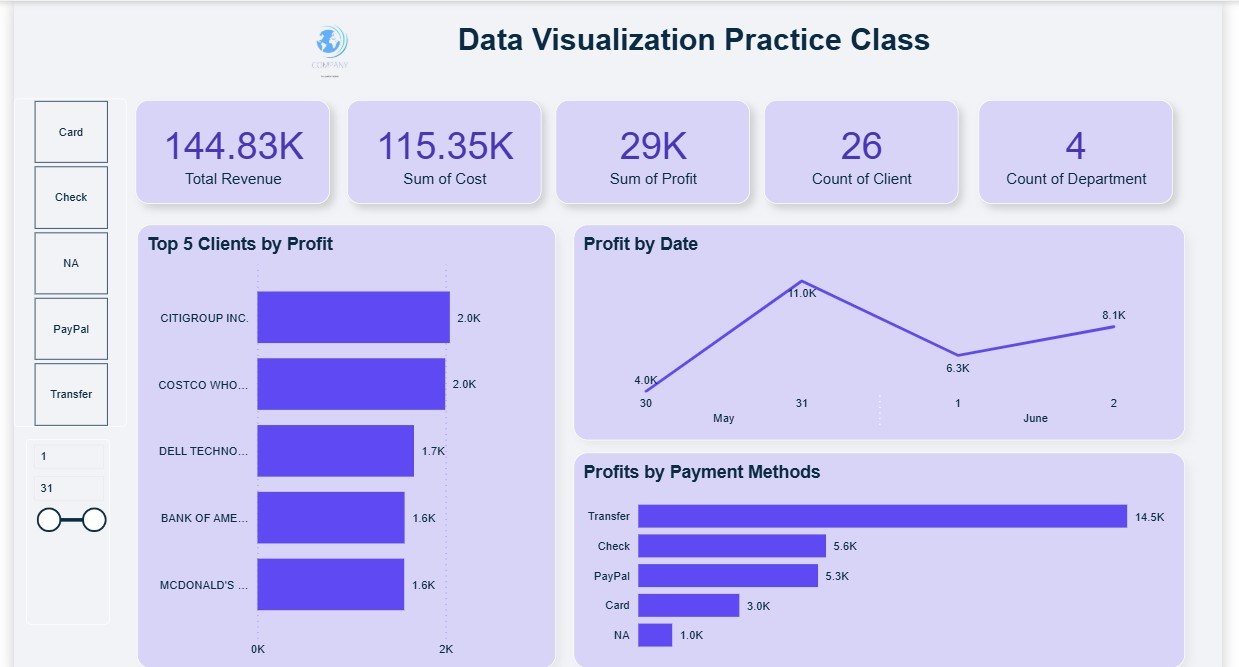

Layout of this report page (visuals, bound fields, positions):
{"tool":"powerbi","page":{"name":"Page 1","canvas":[1280,720],"ordinal":0},"visuals":[{"type":"textbox","box":[419.5,22.7,602.8,56.7],"z":0},{"type":"image","box":[240,5.7,189,86.9],"z":1000},{"type":"card","title":"Total Revenue","fields":{"Values":["Table1.Total Revenue"]},"box":[128.9,104.4,206.2,109.9],"z":2000},{"type":"card","title":"Total Revenue","fields":{"Values":["Sum(Table1.Cost)"]},"box":[352.6,104.4,206.2,109.9],"z":3000},{"type":"card","title":"Total Revenue","fields":{"Values":["Sum(Table1.Profit)"]},"box":[574.4,104.4,206.2,109.9],"z":4000},{"type":"card","title":"Total Revenue","fields":{"Values":["Count(Table1.Client)"]},"box":[795.2,104.4,206.2,109.9],"z":5000},{"type":"card","title":"Total Revenue","fields":{"Values":["Count(Table1.Department)"]},"box":[1021.8,104.4,206.2,109.9],"z":6000},{"type":"barChart","title":"Top 5 Clients by Profit","fields":{"Category":["Table1.Client"],"Y":["Sum(Table1.Profit)"]},"box":[130.4,236.2,444.1,470.6],"z":7000},{"type":"lineChart","title":"Profit by Date","fields":{"Y":["Sum(Table1.Profit)"],"Category":["Table1.Date.Variation.Date Hierarchy.Month","Table1.Date.Variation.Date Hierarchy.Day"]},"box":[593.4,236.2,648.2,228.7],"z":8000},{"type":"barChart","title":"Profits by Payment Methods","fields":{"Category":["Table1.Payment"],"Y":["Sum(Table1.Profit)"]},"box":[593.4,478.1,648.2,228.7],"z":9000},{"type":"slicer","fields":{"Values":["Table1.Payment"]},"box":[0,103.9,119.1,347.7],"z":10000},{"type":"slicer","fields":{"Values":["Table1.Date.Variation.Date Hierarchy.Day"]},"box":[13.2,464.9,88.8,196.5],"z":10001}]}

Visuals, with their boxes on the page's 1280x720 design canvas (x1, y1, x2, y2). These are canvas units, not pixel positions in the 1239x667 screenshot, which may show the page scaled, cropped or inside an application window:
textbox: [left=420, top=23, right=1022, bottom=79]
image: [left=240, top=6, right=429, bottom=93]
"Total Revenue" card: [left=129, top=104, right=335, bottom=214]
"Total Revenue" card: [left=353, top=104, right=559, bottom=214]
"Total Revenue" card: [left=574, top=104, right=781, bottom=214]
"Total Revenue" card: [left=795, top=104, right=1001, bottom=214]
"Total Revenue" card: [left=1022, top=104, right=1228, bottom=214]
"Top 5 Clients by Profit" barChart: [left=130, top=236, right=574, bottom=707]
"Profit by Date" lineChart: [left=593, top=236, right=1242, bottom=465]
"Profits by Payment Methods" barChart: [left=593, top=478, right=1242, bottom=707]
slicer - Table1.Payment: [left=0, top=104, right=119, bottom=452]
slicer - Table1.Date.Variation.Date Hierarchy.Day: [left=13, top=465, right=102, bottom=661]
